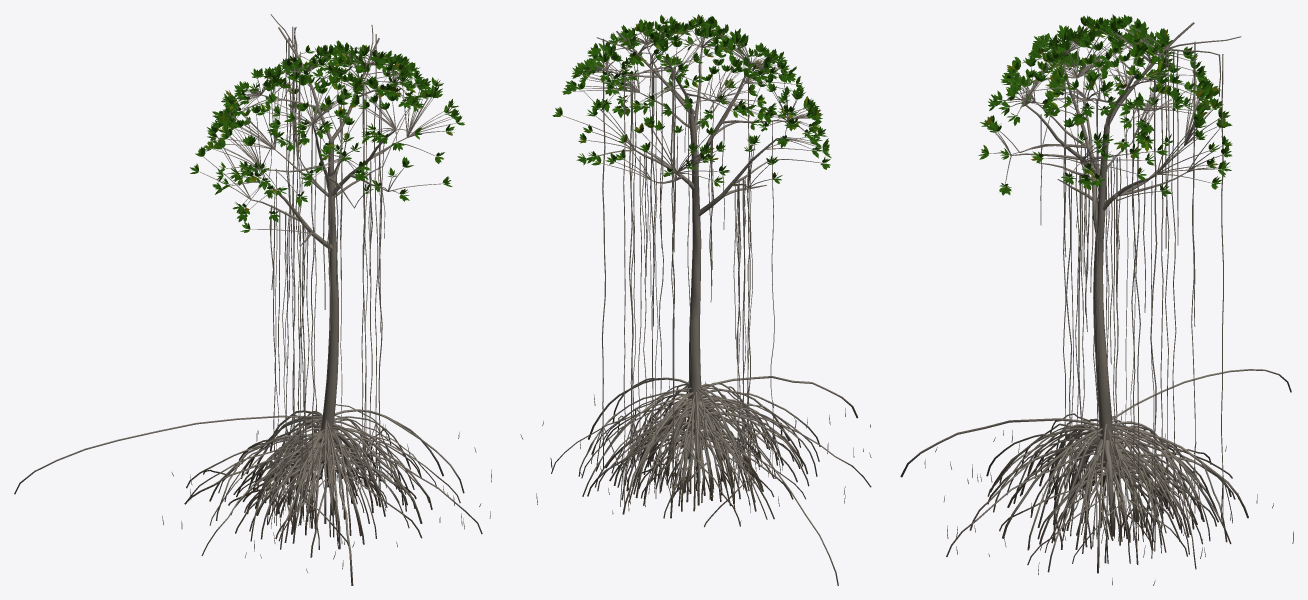
Rendered from RedMangrove_05_TallForest.fbx.
The picture shows the model from 3 angles, left to right: view 1: azimuth 30°, elevation 25°; view 2: azimuth 150°, elevation 25°; view 3: azimuth 270°, elevation 25°; orthographic projection. The views are drawn at different scales.
Parts seen in each view (by area): view 1: RedMangrove_05_TallForest_LOD0; view 2: RedMangrove_05_TallForest_LOD0; view 3: RedMangrove_05_TallForest_LOD0.
Part boxes in pixels (x1,y1,x2,y2): RedMangrove_05_TallForest_LOD0: (14,14,491,585); RedMangrove_05_TallForest_LOD0: (520,14,871,585); RedMangrove_05_TallForest_LOD0: (900,14,1293,585).
Size of what is drawn, in the model's own units: 9.5 by 10.65 by 7.73.
